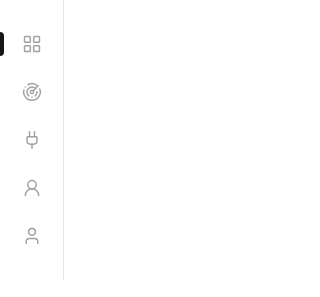
Sidebar › shows a tooltip naming the destination on hover
Hover over the 2nd link named "Coverage".
mouse_move(32, 92)  # box [12,72,52,112]
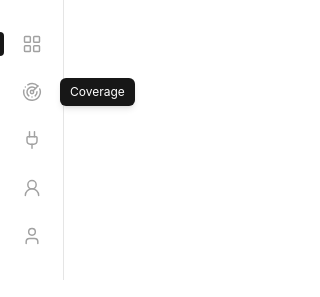
Result: the tooltip reads "Coverage" at [70,84,125,99]
